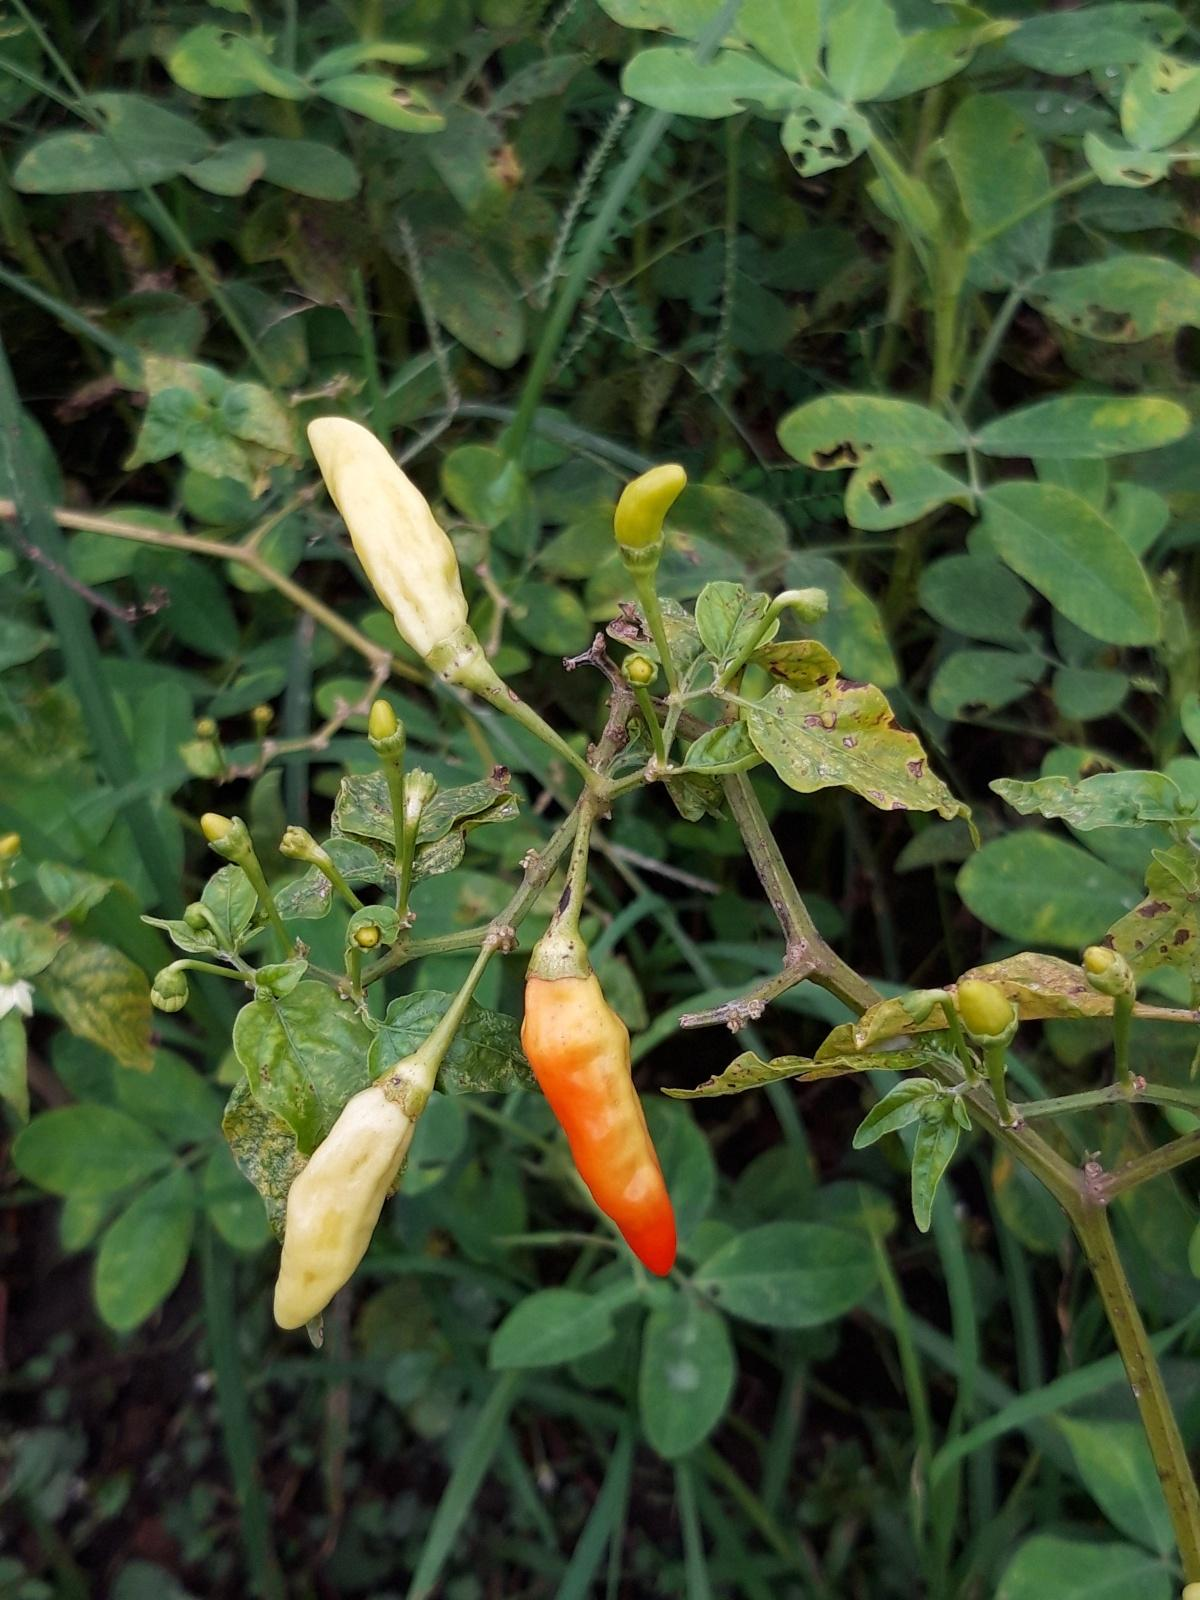cabai_normal: (521, 957, 678, 1279), (306, 417, 471, 645), (274, 1078, 421, 1330), (615, 462, 688, 547), (961, 976, 1012, 1034)
